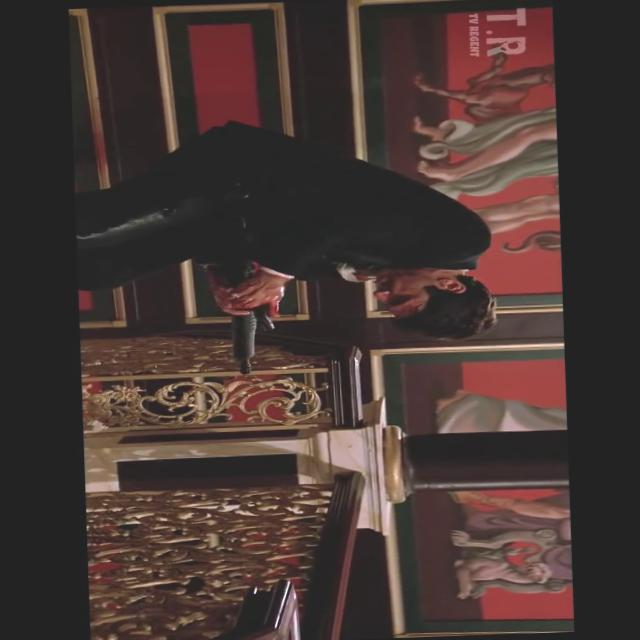long weapon: (178, 180, 280, 394)
